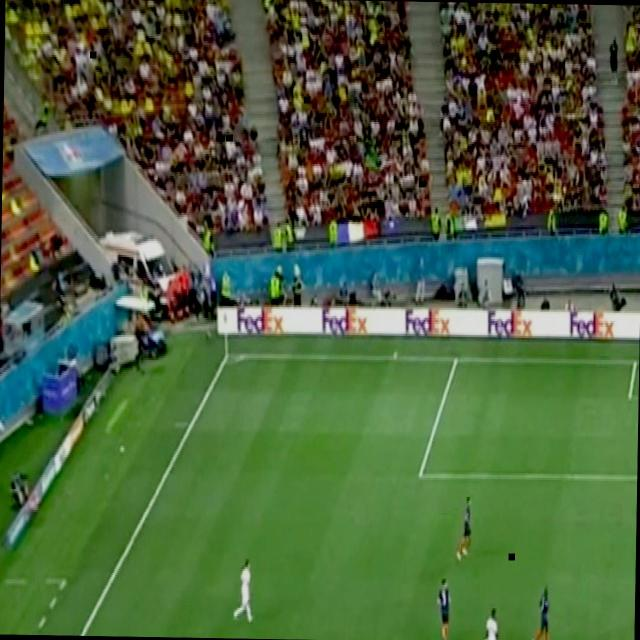player-white: (452, 488, 476, 570), (525, 575, 554, 640), (232, 552, 256, 630), (434, 572, 454, 640), (483, 599, 501, 640)
